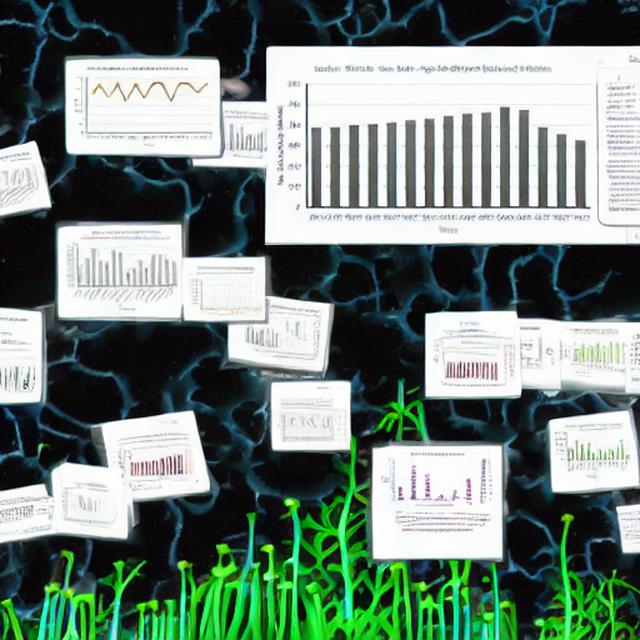Graph: (269, 58, 597, 240), (70, 64, 217, 149), (63, 228, 179, 314), (378, 451, 478, 509), (551, 422, 629, 479), (187, 271, 261, 318), (121, 447, 185, 481), (276, 408, 336, 444)
